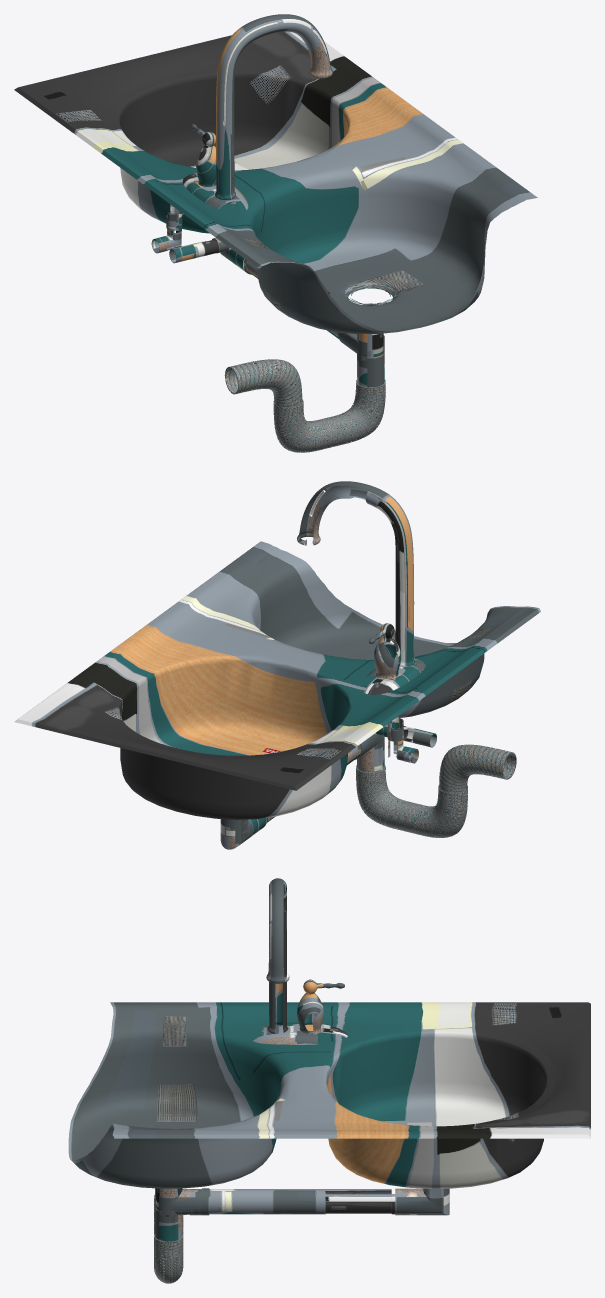
File: StainlessSink.fbx
3 renders of one model, top to bottom at view 1: azimuth 30°, elevation 25°; view 2: azimuth 150°, elevation 25°; view 3: azimuth 270°, elevation 25°, orthographic. The views are drawn at different scales.
Visible parts, largest first — view 1: Object_4.001, Object_26.001, Object_18.001, Object_20.001, Object_10.001, Object_30.001, Object_28.001, Object_50.001; view 2: Object_4.001, Object_26.001, Object_18.001, Object_20.001, Object_30.001, Object_12.001, Object_28.001, Object_10.001, Object_50.001; view 3: Object_4.001, Object_16.001, Object_26.001, Object_10.001, Object_12.001, Object_18.001, Object_28.001, Object_30.001.
Part boxes in pixels (x1,y1,x2,y2): Object_4.001: (14, 31, 537, 333); Object_26.001: (215, 14, 332, 203); Object_18.001: (273, 379, 385, 452); Object_20.001: (224, 359, 302, 411); Object_10.001: (338, 303, 384, 387); Object_30.001: (190, 124, 216, 186); Object_28.001: (182, 173, 248, 209); Object_50.001: (169, 239, 218, 263); Object_4.001: (14, 541, 540, 819); Object_26.001: (297, 481, 414, 665); Object_18.001: (356, 765, 467, 837); Object_20.001: (439, 744, 516, 796); Object_30.001: (369, 623, 400, 678); Object_12.001: (220, 818, 266, 849); Object_28.001: (362, 658, 425, 694); Object_10.001: (355, 734, 384, 773); Object_50.001: (387, 726, 436, 747); Object_4.001: (68, 1002, 590, 1188); Object_16.001: (209, 1189, 395, 1214); Object_26.001: (266, 878, 289, 1033); Object_10.001: (155, 1188, 209, 1243); Object_12.001: (395, 1188, 449, 1215); Object_18.001: (154, 1194, 183, 1283); Object_28.001: (253, 1022, 347, 1044); Object_30.001: (297, 979, 344, 1034).
Size of the model in its own units: 239 by 315 by 432.
